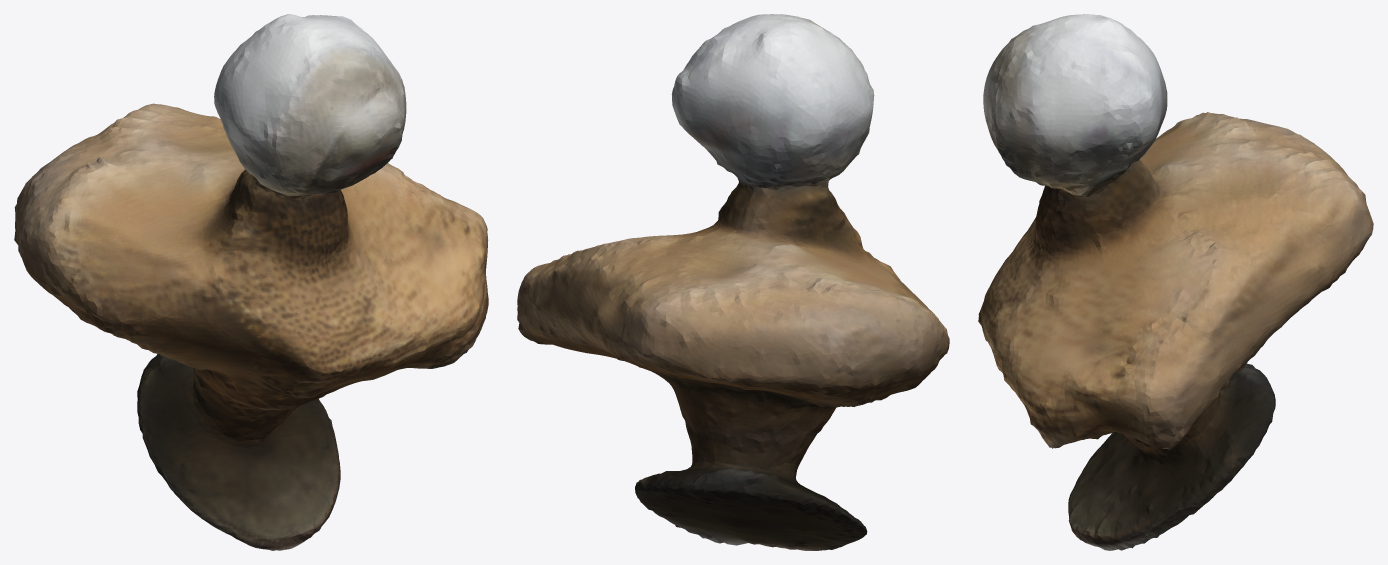
Rendered from IMG_SEG_52.glb.
3 views of the same model, side by side, from view 1: azimuth 30°, elevation 25°; view 2: azimuth 150°, elevation 25°; view 3: azimuth 270°, elevation 25° (orthographic).
Bounding box in the file's own units: 0.836 × 0.9644 × 0.6649.
1 material, 1 textured.
